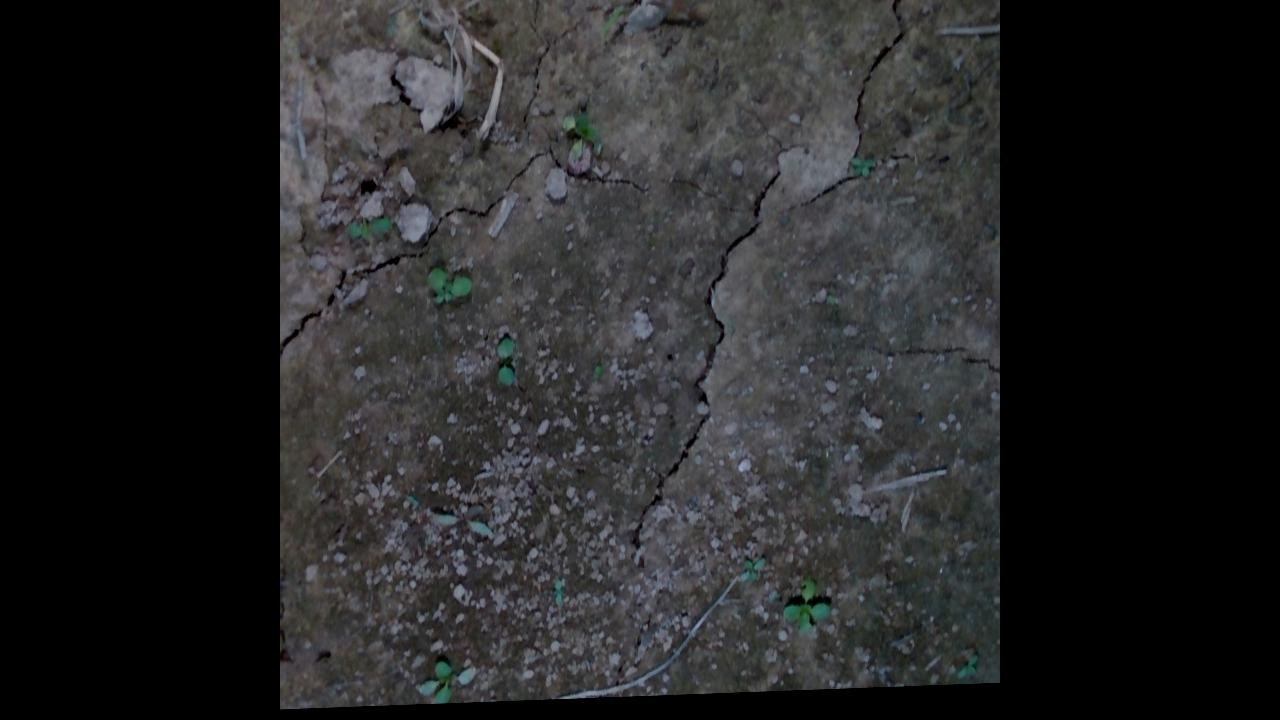weed: (777, 583, 837, 642), (425, 272, 475, 314), (416, 662, 461, 707), (493, 338, 517, 391), (561, 126, 600, 157), (847, 153, 875, 189)
